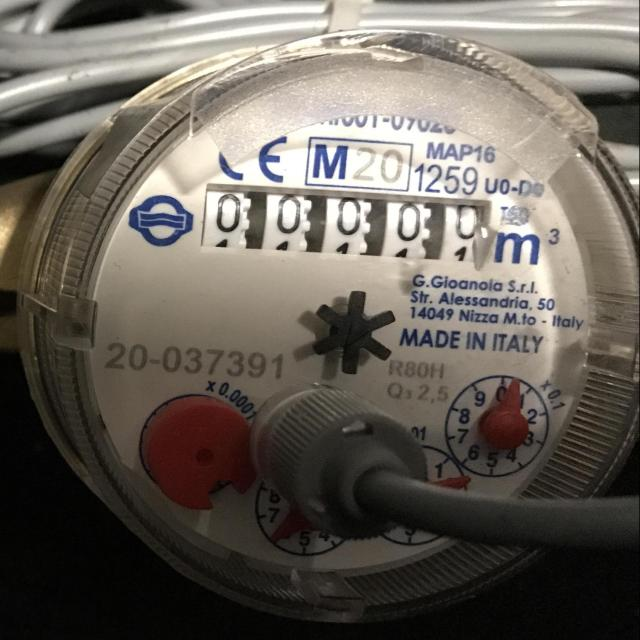gaz_meter: (79, 53, 593, 573)
indication: (204, 183, 488, 269)
